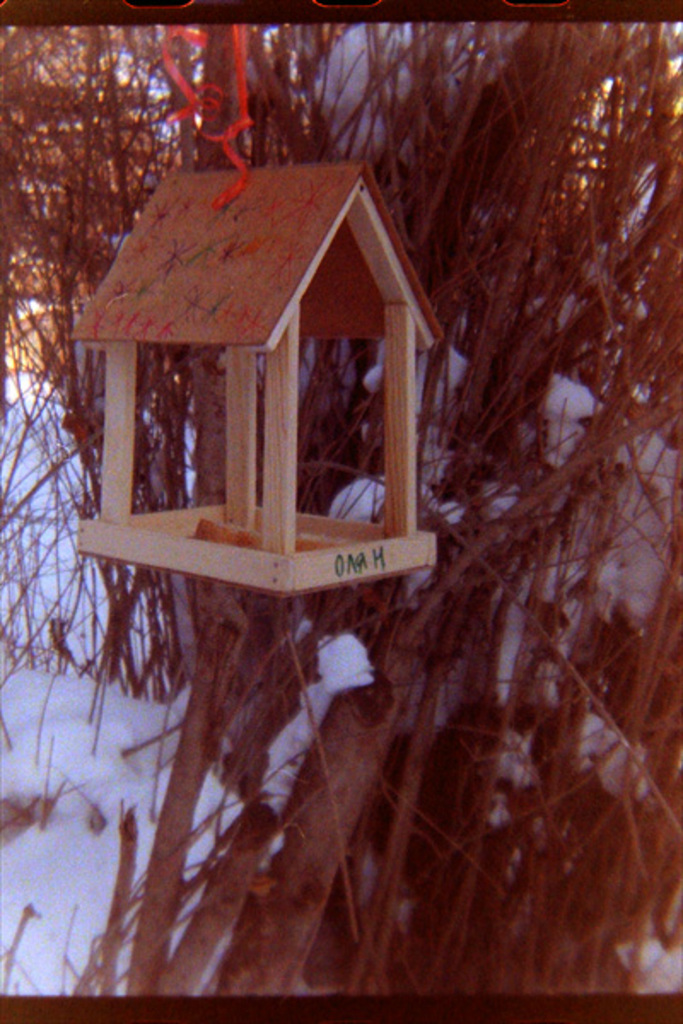Tree: (0, 29, 681, 998)
